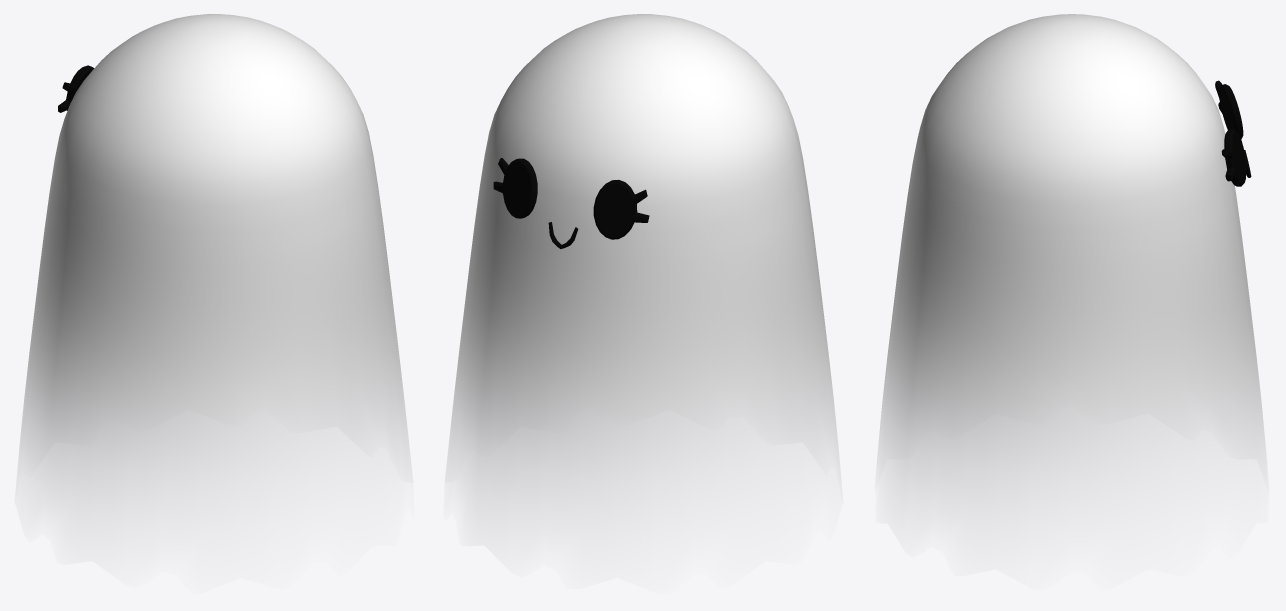
Rendered from ghost.glb.
3 views of the same model, side by side, from view 1: azimuth 30°, elevation 25°; view 2: azimuth 150°, elevation 25°; view 3: azimuth 270°, elevation 25° (orthographic).
Visible parts, largest first — view 1: Object_2, Object_3; view 2: Object_2, Object_3; view 3: Object_2, Object_3.
Boxes of the visible parts, box(x1,y1,x2,y2) form: Object_2: box(16, 14, 412, 536); Object_3: box(58, 65, 94, 112); Object_2: box(445, 14, 841, 541); Object_3: box(493, 158, 649, 248); Object_2: box(876, 14, 1267, 531); Object_3: box(1215, 80, 1251, 186).
Size of the model in its own units: 2.41 by 3.22 by 2.41.
Materials: 2 (1 with a texture image).
